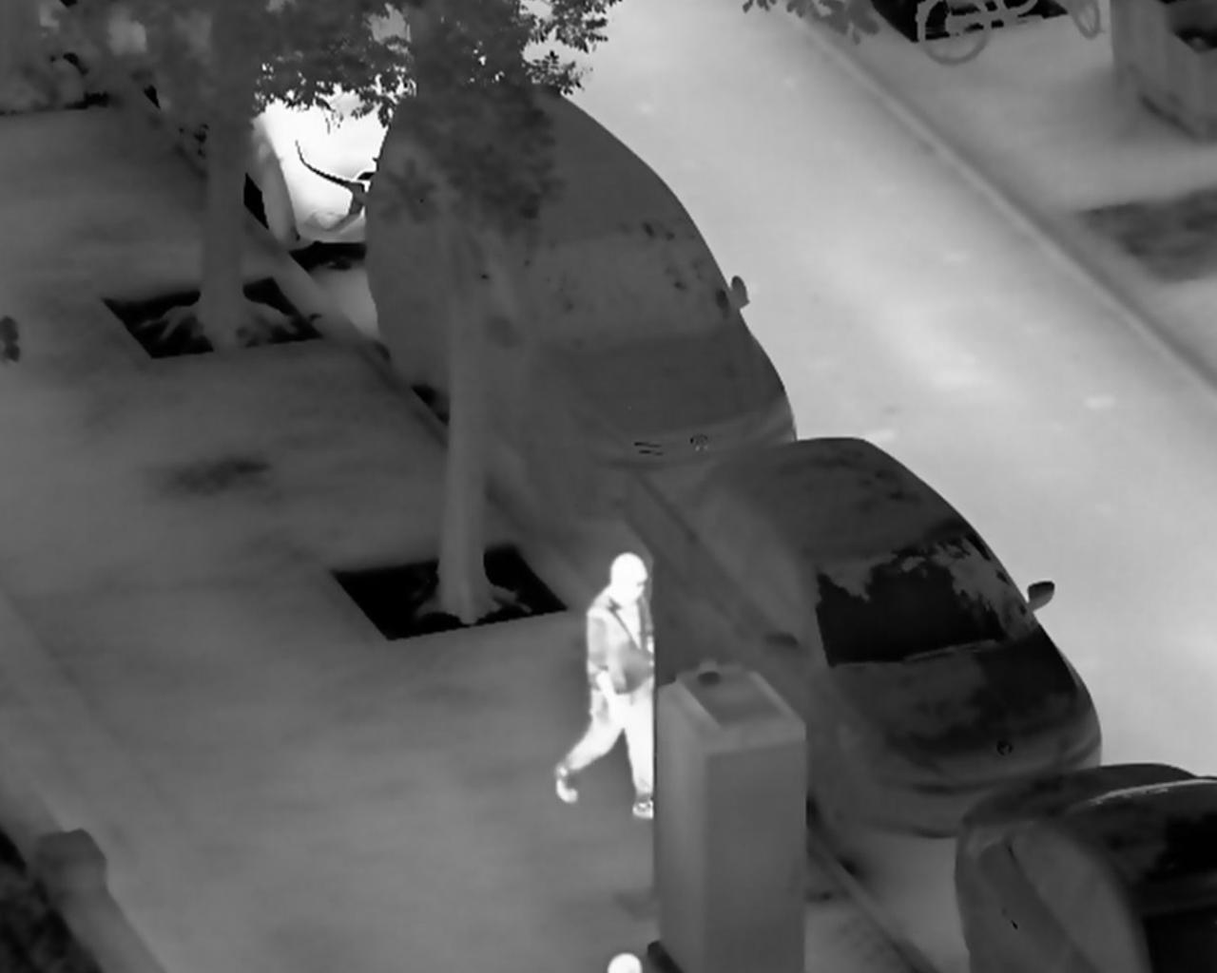person: (551, 548, 657, 821)
